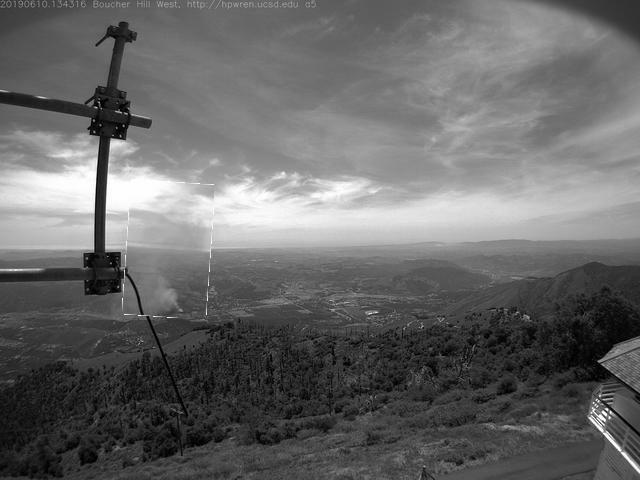smoke: (126, 182, 214, 319)
